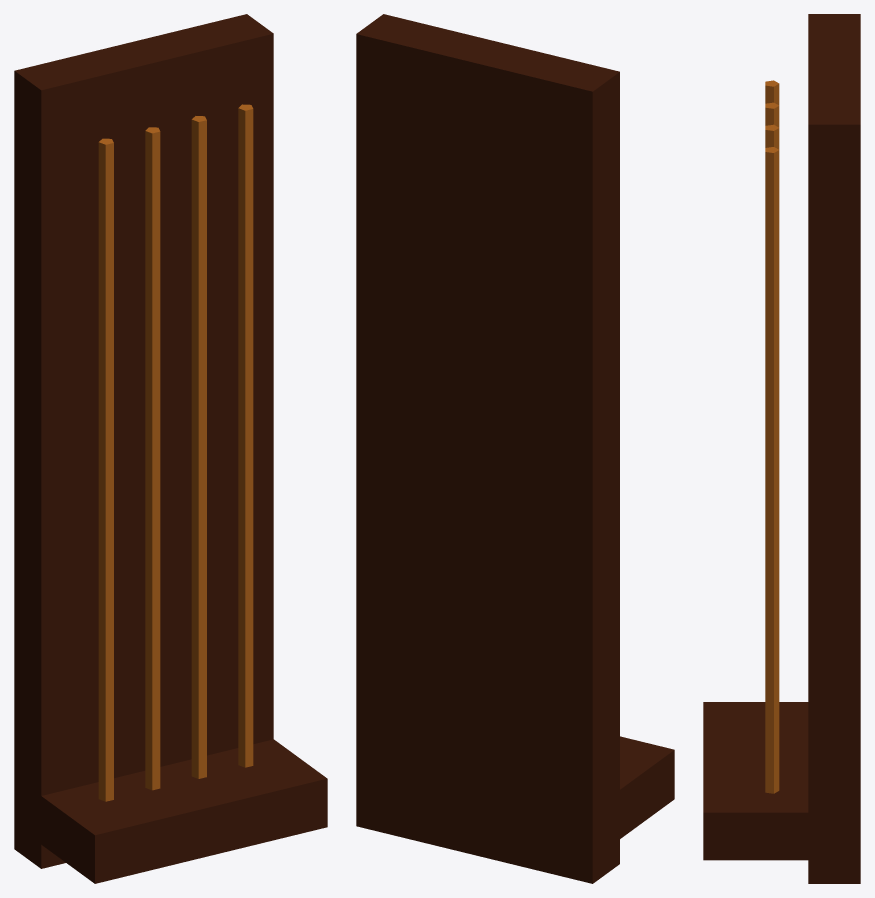
Rendered from cue_rack.obj.
3 renders of one model, left to right at view 1: azimuth 30°, elevation 25°; view 2: azimuth 150°, elevation 25°; view 3: azimuth 270°, elevation 25°, orthographic. The views are drawn at different scales.
Parts seen in each view (by area): view 1: cue_rack; view 2: cue_rack; view 3: cue_rack.
Boxes of the visible parts, box(x1,y1,x2,y2) form: cue_rack: box(14, 14, 327, 883); cue_rack: box(356, 14, 674, 883); cue_rack: box(703, 14, 860, 883).
Size of the model in its own units: 0.5 by 1.6 by 0.3.
